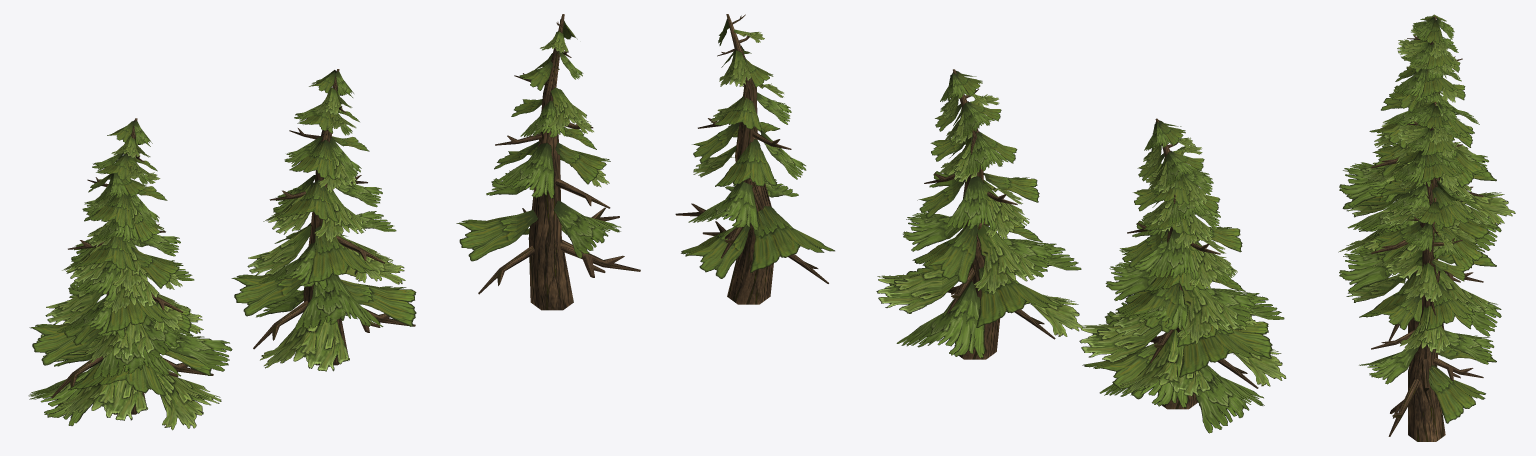
Rendered from pines.fbx.
3 views of the same model, side by side, from view 1: azimuth 30°, elevation 25°; view 2: azimuth 150°, elevation 25°; view 3: azimuth 270°, elevation 25° (orthographic). The views are drawn at different scales.
Parts seen in each view (by area): view 1: Leaves_03, Leaves_02, Leaves_01, trunk_01, trunk_02, trunk_03; view 2: Leaves_03, Leaves_02, Leaves_01, trunk_01, trunk_02, trunk_03; view 3: Leaves_03, Leaves_02, Leaves_01, trunk_01, trunk_02, trunk_03.
Boxes of the visible parts, box(x1,y1,x2,y2) form: Leaves_03: box(28, 120, 232, 430); Leaves_02: box(231, 70, 416, 371); Leaves_01: box(456, 19, 621, 261); trunk_01: box(478, 14, 640, 310); trunk_02: box(253, 69, 415, 365); trunk_03: box(51, 118, 213, 414); Leaves_03: box(1079, 120, 1286, 433); Leaves_02: box(876, 70, 1083, 358); Leaves_01: box(681, 19, 834, 278); trunk_01: box(675, 14, 828, 304); trunk_02: box(924, 69, 1055, 359); trunk_03: box(1127, 118, 1258, 409); Leaves_03: box(1338, 14, 1515, 252); Leaves_02: box(1339, 100, 1501, 336); Leaves_01: box(1359, 201, 1496, 423); trunk_01: box(1371, 194, 1483, 441); trunk_02: box(1371, 102, 1483, 341); trunk_03: box(1371, 16, 1483, 229).
Size of the model in its own units: 1629 by 731 by 531.
